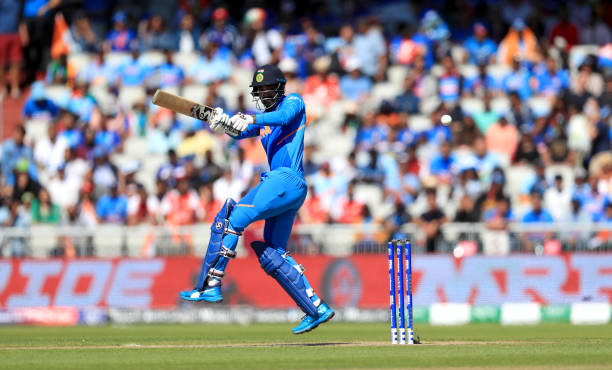bottom left: (154, 87, 165, 98)
bottom right: (149, 98, 161, 110)
top left: (211, 103, 222, 114)
top right: (201, 114, 212, 125)
